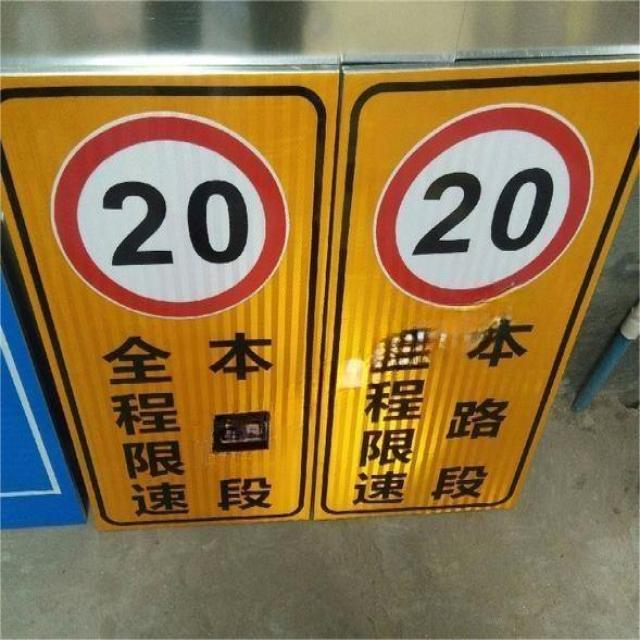speed limit 20: (49, 112, 288, 321), (371, 103, 594, 311)
